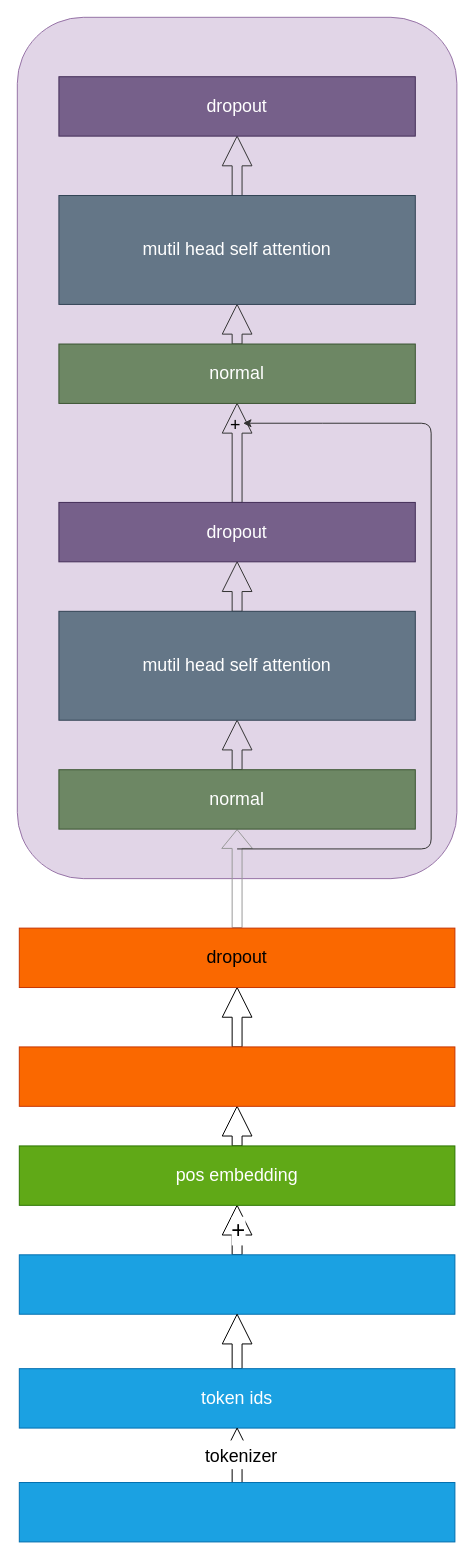
This 474x1559 diagram has some shape labels left out. Each missing label, with the box of its shape:
embedding: (18, 1046, 455, 1106)
text: (18, 1482, 455, 1542)
token embedding: (18, 1254, 455, 1314)
